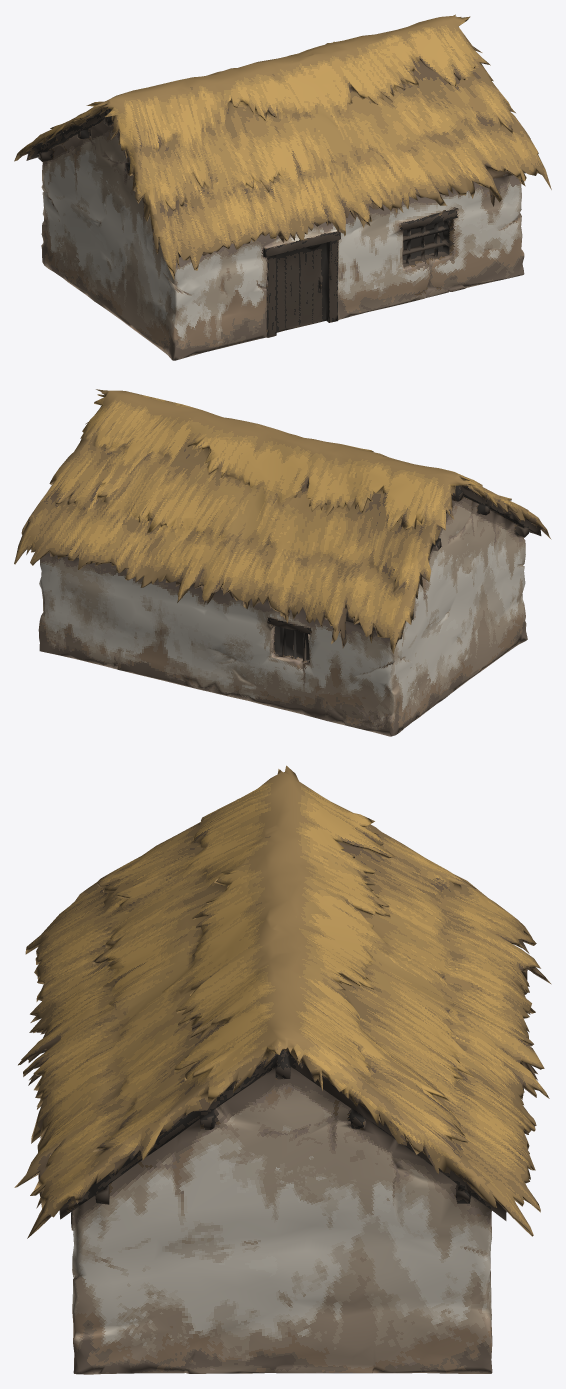
File: posada.glb
3 views of the same model, one above another, from view 1: azimuth 30°, elevation 25°; view 2: azimuth 150°, elevation 25°; view 3: azimuth 270°, elevation 25° (orthographic). The views are drawn at different scales.
Visible parts, largest first — view 1: tripo_node_fff0bb99-f145-4f8f-8342-08b2c095c38b; view 2: tripo_node_fff0bb99-f145-4f8f-8342-08b2c095c38b; view 3: tripo_node_fff0bb99-f145-4f8f-8342-08b2c095c38b.
Boxes of the visible parts, <box> form: tripo_node_fff0bb99-f145-4f8f-8342-08b2c095c38b: <box>14,14,551,360</box>; tripo_node_fff0bb99-f145-4f8f-8342-08b2c095c38b: <box>14,389,551,736</box>; tripo_node_fff0bb99-f145-4f8f-8342-08b2c095c38b: <box>14,765,551,1374</box>.
Size of the model in its own units: 1.91 by 1 by 1.46.
Materials: 1 (1 with a texture image).
